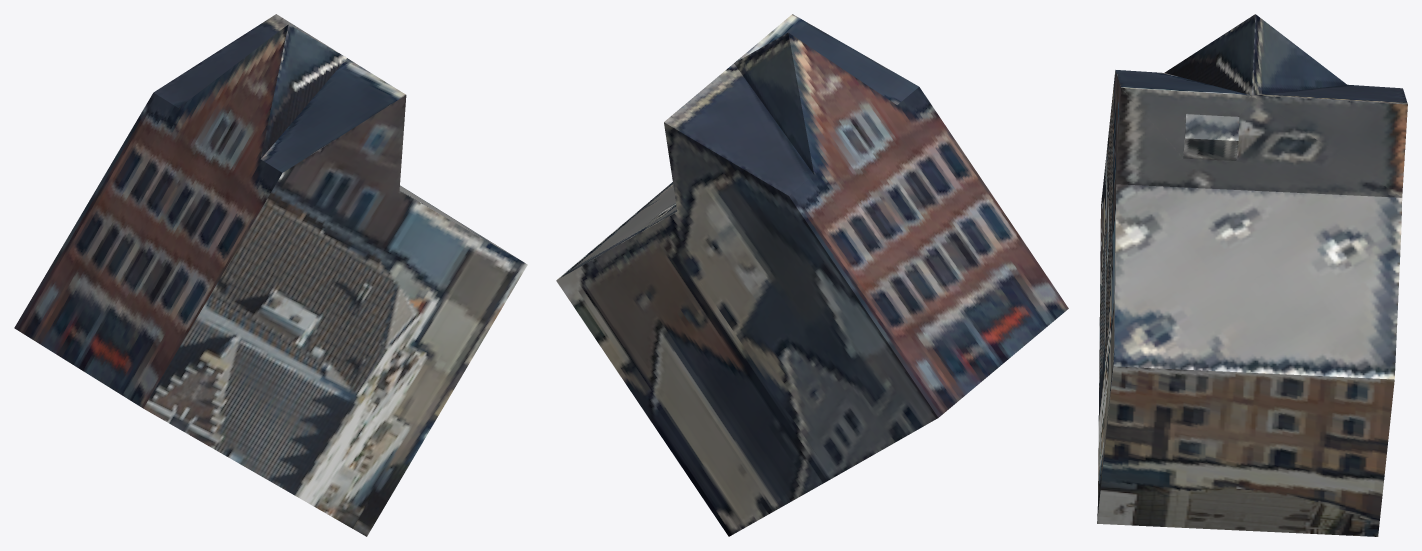
The picture shows the model from 3 angles, left to right: view 1: azimuth 30°, elevation 25°; view 2: azimuth 150°, elevation 25°; view 3: azimuth 270°, elevation 25°; orthographic projection. The views are drawn at different scales.
Visible parts, largest first — view 1: BAG_0599100000671723 (×3); view 2: BAG_0599100000671723 (×3); view 3: BAG_0599100000671723 (×5).
Boxes of the visible parts, bbox=[...] form: BAG_0599100000671723 (×3): bbox=[14, 14, 527, 536]; BAG_0599100000671723 (×3): bbox=[556, 14, 1068, 536]; BAG_0599100000671723 (×5): bbox=[1097, 14, 1407, 536].
Bounding box in the file's own units: 20.84 × 24.19 × 13.09.
Materials: 5 (5 with a texture image).
